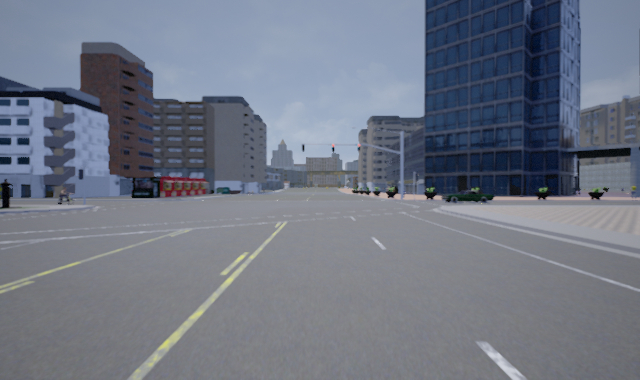bike: (50, 186, 76, 206)
pedestrian: (628, 183, 638, 199)
traffic_light: (357, 142, 362, 154), (331, 142, 336, 152)
vehicle: (442, 191, 494, 203)
